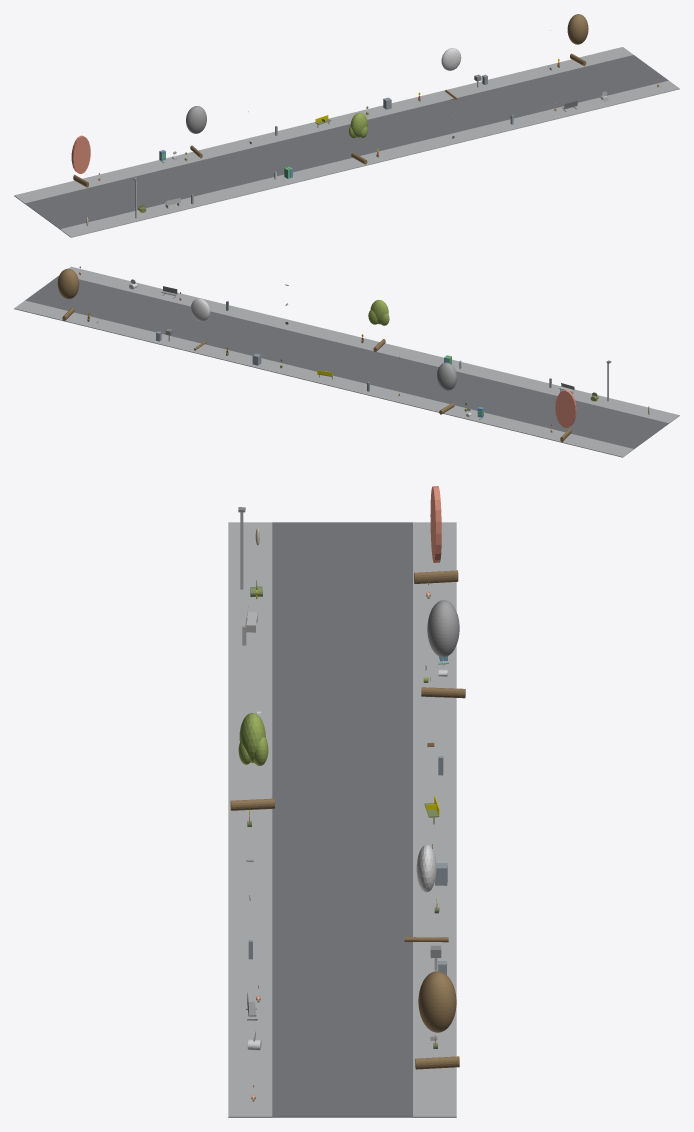
3 views of the same model, one above another, from view 1: azimuth 30°, elevation 25°; view 2: azimuth 150°, elevation 25°; view 3: azimuth 270°, elevation 25° (orthographic). The views are drawn at different scales.
Parts seen in each view (by area): view 1: road_slab, sidewalk_left, sidewalk_right, inst_0012, inst_0016, inst_0013, inst_0014, inst_0015; view 2: road_slab, sidewalk_right, sidewalk_left, inst_0012, inst_0016, inst_0013, inst_0014, inst_0015; view 3: road_slab, sidewalk_left, sidewalk_right, inst_0016, inst_0013, inst_0014, inst_0012, inst_0015.
Boxes of the visible parts, x1,y1,x2,y2 form: road_slab: (25,55,668,229); sidewalk_left: (60,80,679,237); sidewalk_right: (14,47,633,203); inst_0012: (71,135,90,187); inst_0016: (567,14,588,66); inst_0013: (186,106,206,158); inst_0014: (348,112,367,164); inst_0015: (441,48,461,99); road_slab: (25,275,668,448); sidewalk_right: (14,300,633,457); sidewalk_left: (69,266,679,423); inst_0012: (555,390,576,442); inst_0016: (57,268,79,321); inst_0013: (437,362,456,414); inst_0014: (368,300,389,351); inst_0015: (191,298,210,350); road_slab: (272,522,412,1117); sidewalk_left: (228,522,272,1117); sidewalk_right: (413,522,456,1117); inst_0016: (415,971,459,1069); inst_0013: (421,600,465,698); inst_0014: (230,712,274,810); inst_0012: (414,486,458,583); inst_0015: (404,844,448,942).
Size of the model in its own units: 80 by 6.08 by 13.51.
